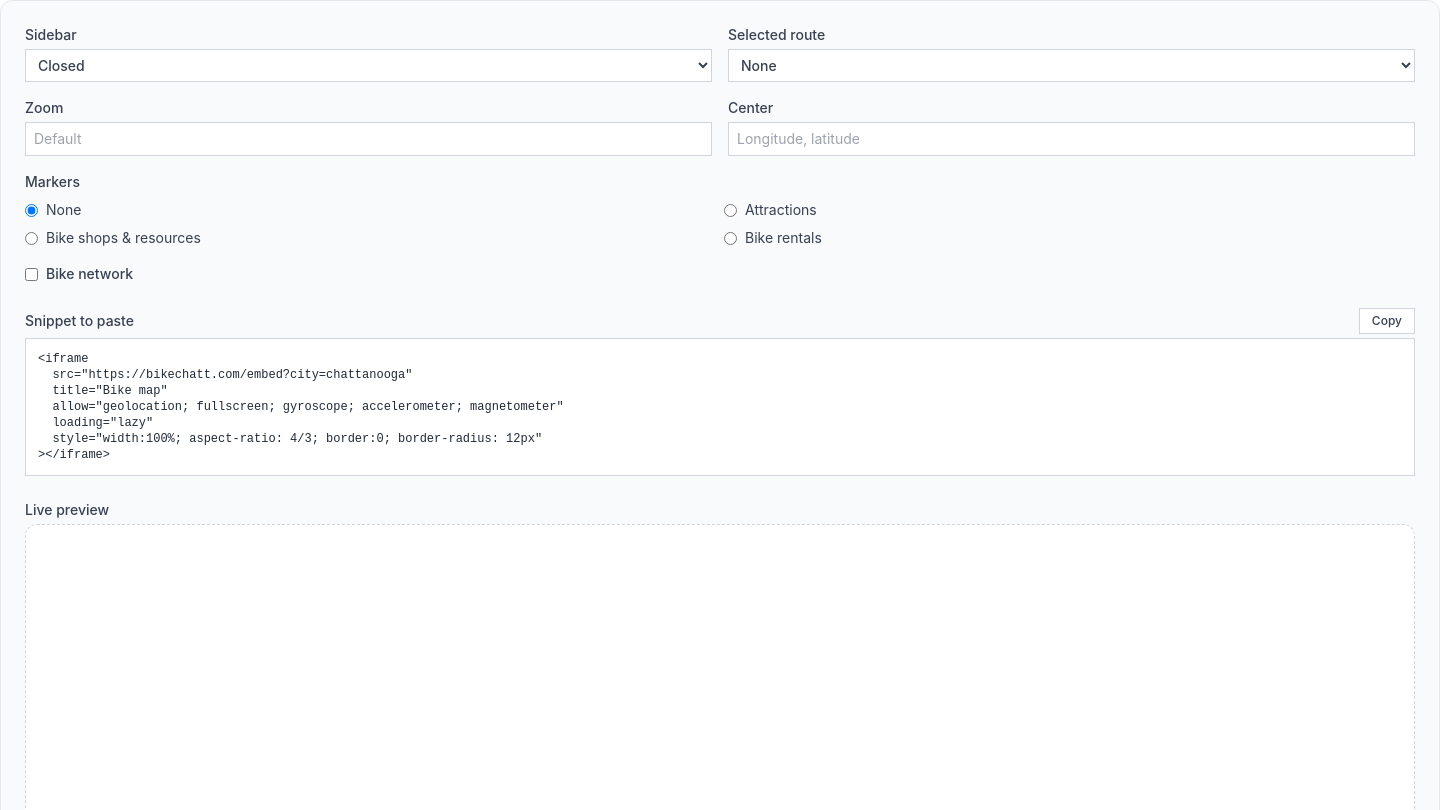
Test: EmbedSnippetBuilder › selecting "None" clears the marker layer but keeps bike network
Click the radio button labelled "Attractions". click: (730, 210)
box: [724,204,737,216]
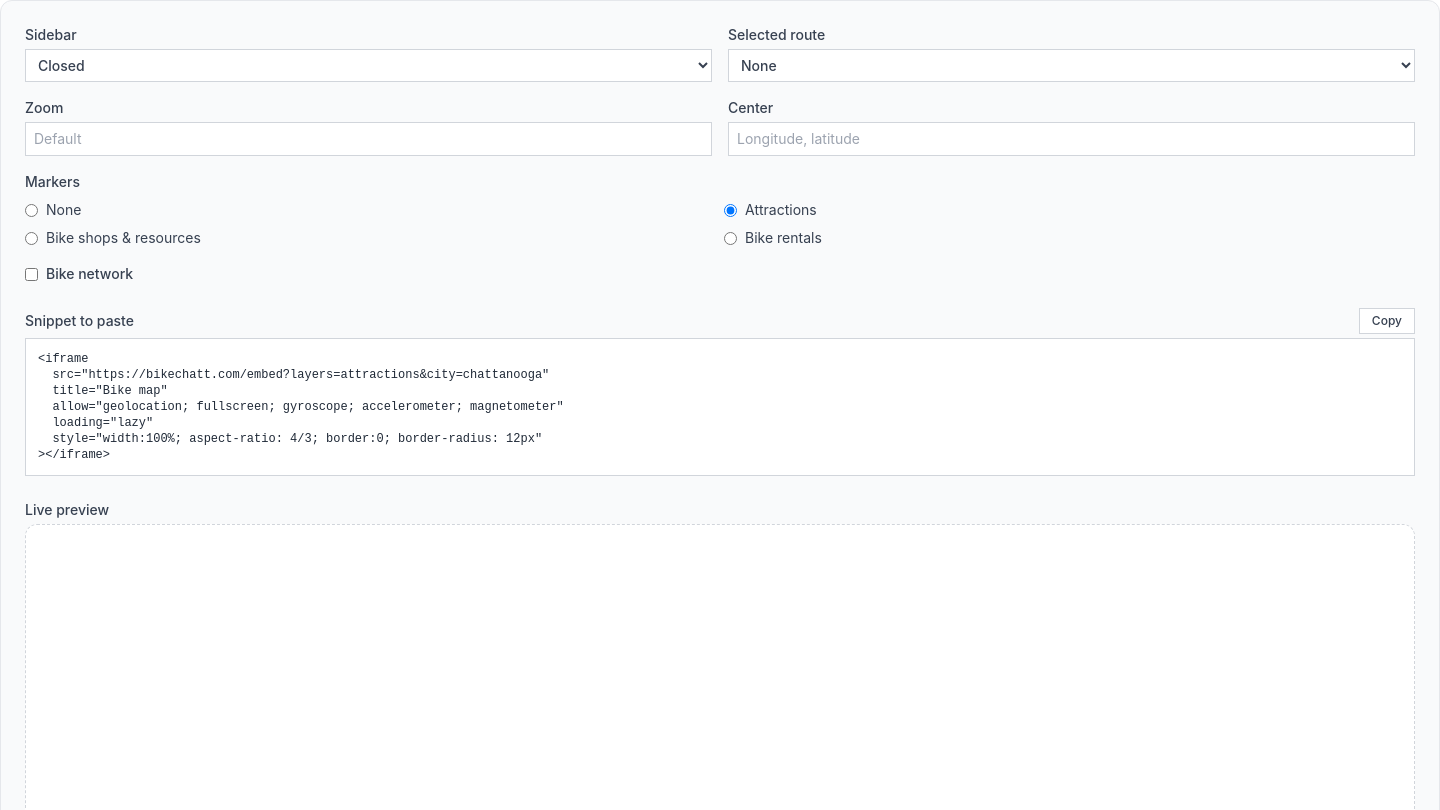
Click the checkbox labelled "Bike network". click: (32, 274)
box: [25,268,38,280]
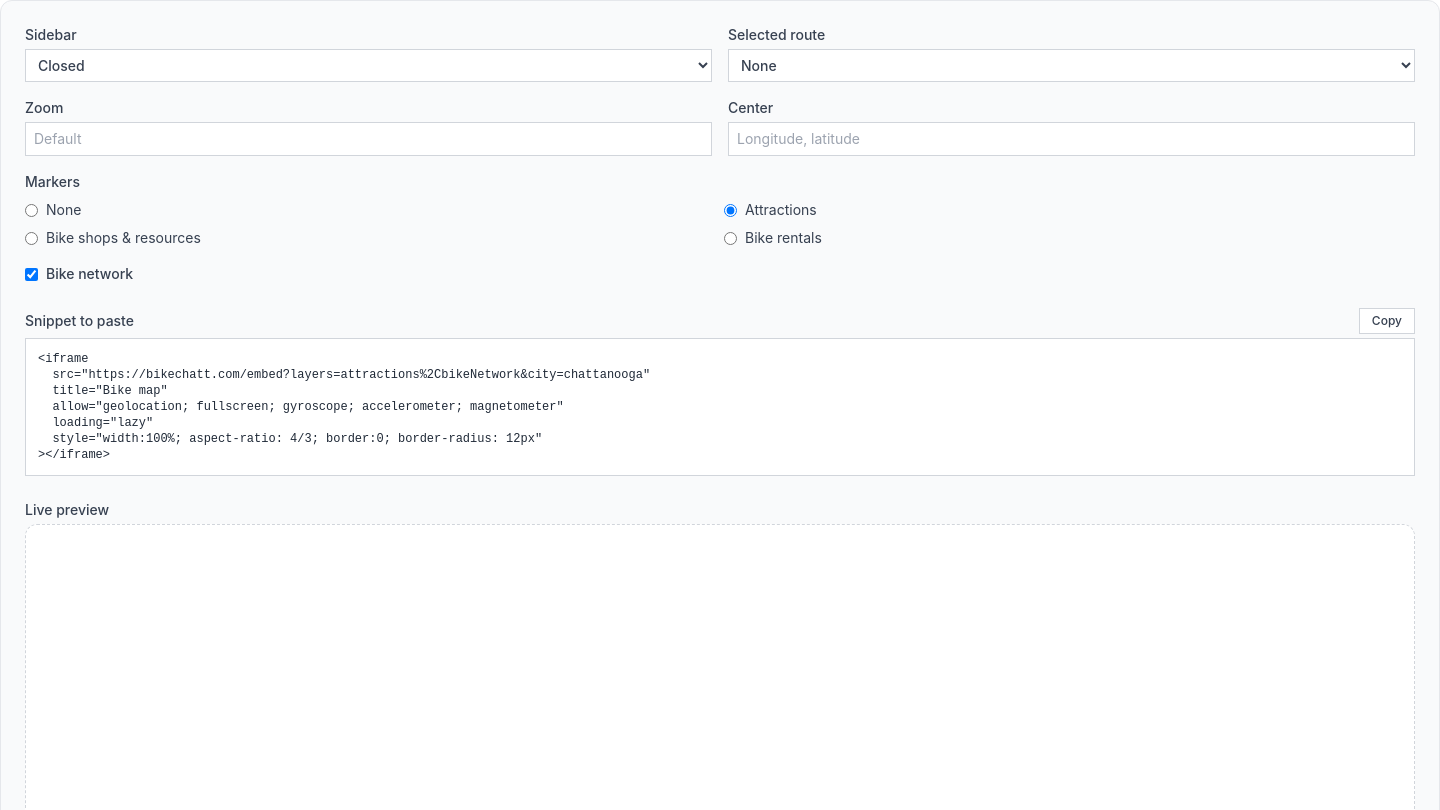
Click the radio button labelled "None". click: (32, 210)
box: [25,204,38,216]
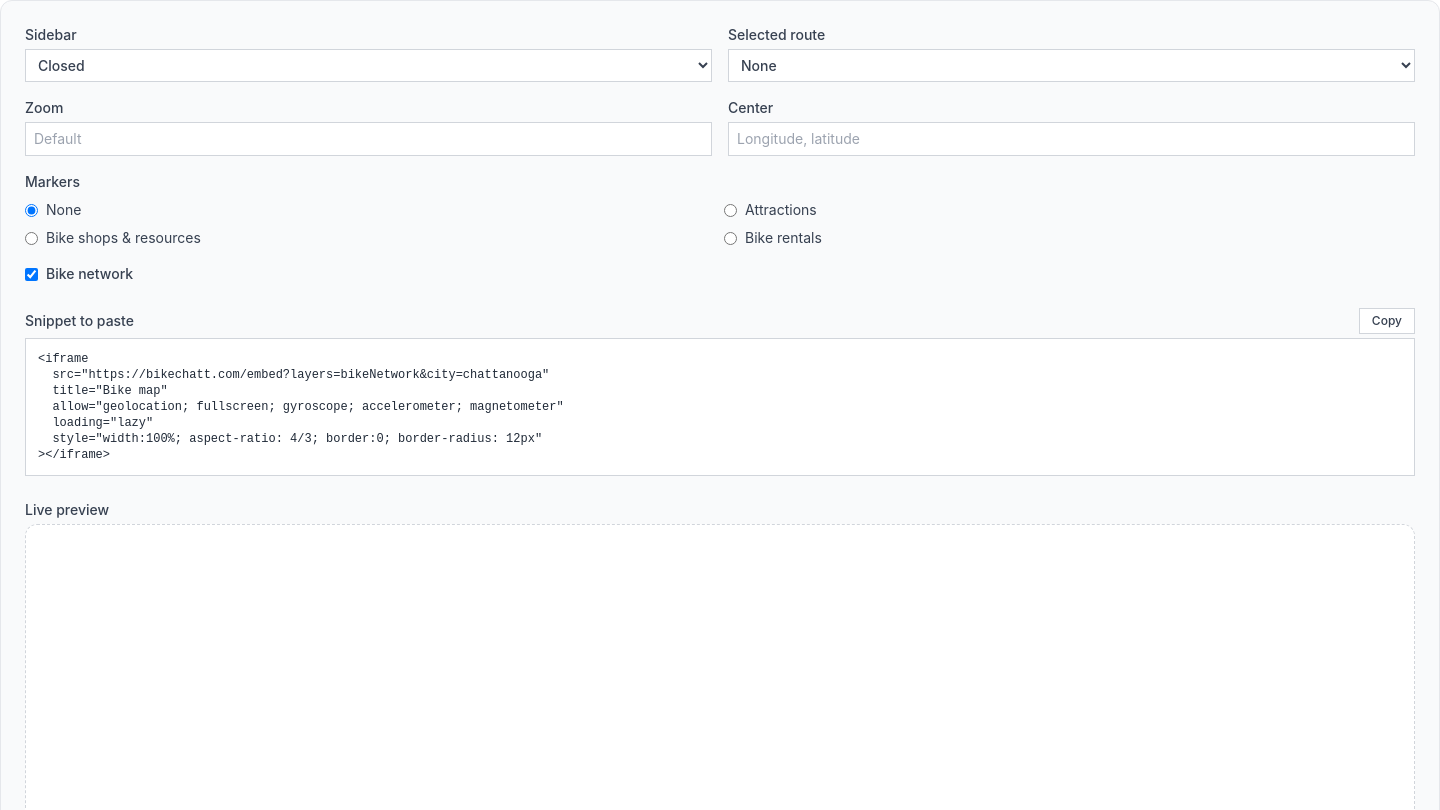
Result: the text "<iframe" shows "layers=bikeNetwork" at [38,352,564,462]
